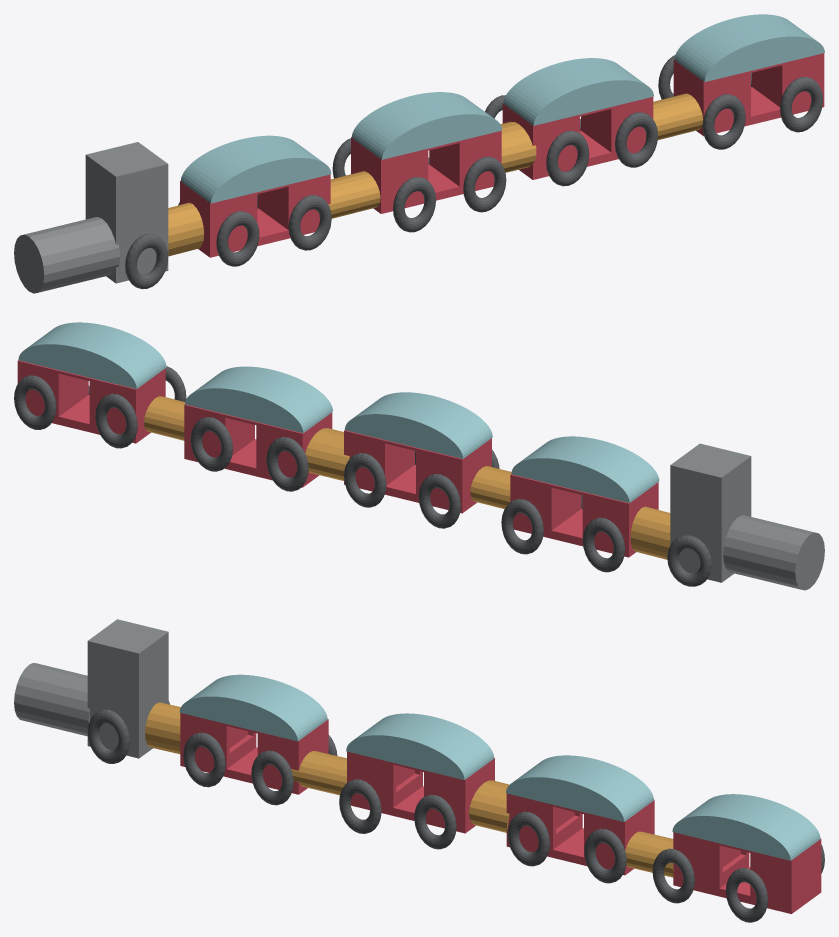
File: TRAIN.glb
The picture shows the model from 3 angles, top to bottom: view 1: azimuth 30°, elevation 25°; view 2: azimuth 150°, elevation 25°; view 3: azimuth 330°, elevation 25°; orthographic projection.
Parts seen in each view (by area): view 1: Mesh_Mesh_head_geo.001_lambert2SG.001; view 2: Mesh_Mesh_head_geo.001_lambert2SG.001; view 3: Mesh_Mesh_head_geo.001_lambert2SG.001.
Part boxes in pixels (<box>): Mesh_Mesh_head_geo.001_lambert2SG.001: <box>14,14,824,293</box>; Mesh_Mesh_head_geo.001_lambert2SG.001: <box>14,322,824,590</box>; Mesh_Mesh_head_geo.001_lambert2SG.001: <box>14,619,824,922</box>.
Size of the model in its own units: 300 by 44 by 39.
